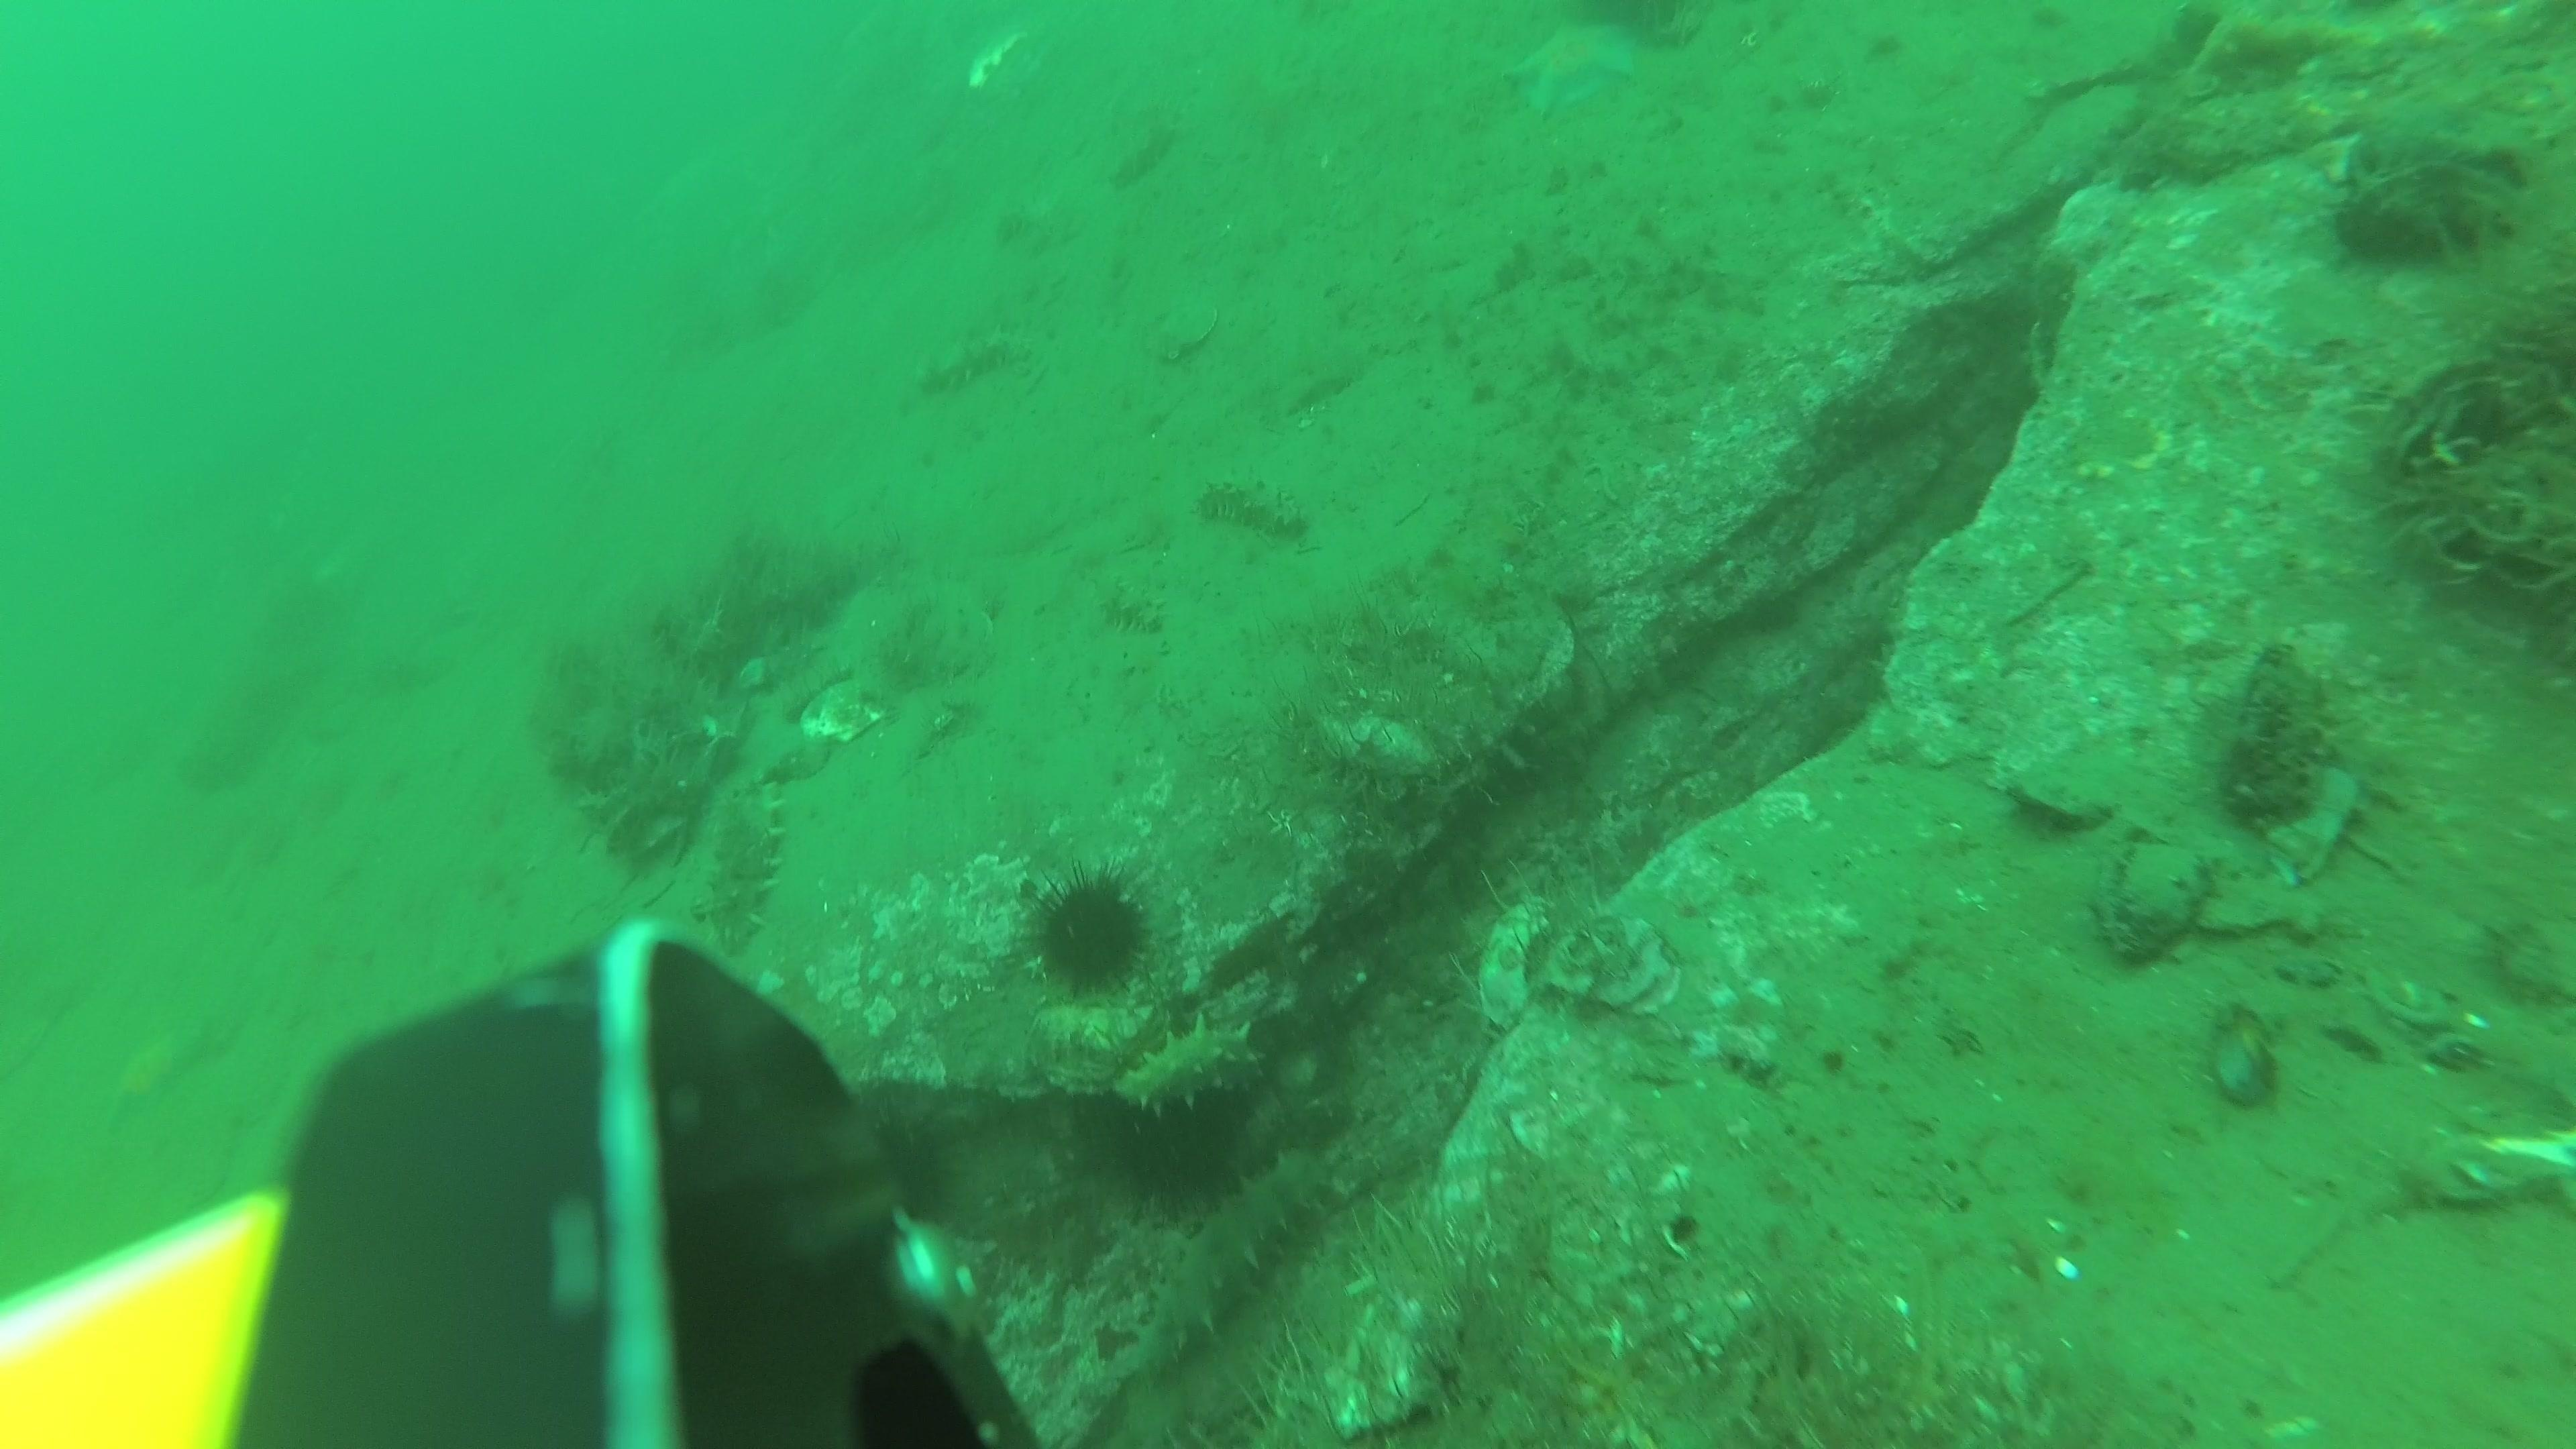echinus: (1111, 1092, 1254, 1215), (1028, 867, 1152, 998)
holothurian: (1116, 1148, 1336, 1380), (697, 773, 787, 970), (1115, 1016, 1265, 1118), (1200, 471, 1304, 545), (918, 327, 1019, 402), (1108, 101, 1182, 191), (996, 195, 1076, 260), (1102, 580, 1164, 639)
scallop: (2036, 0, 2199, 97), (800, 678, 885, 747), (1152, 297, 1221, 364)
starfish: (1507, 19, 1640, 120), (103, 1021, 196, 1125)
